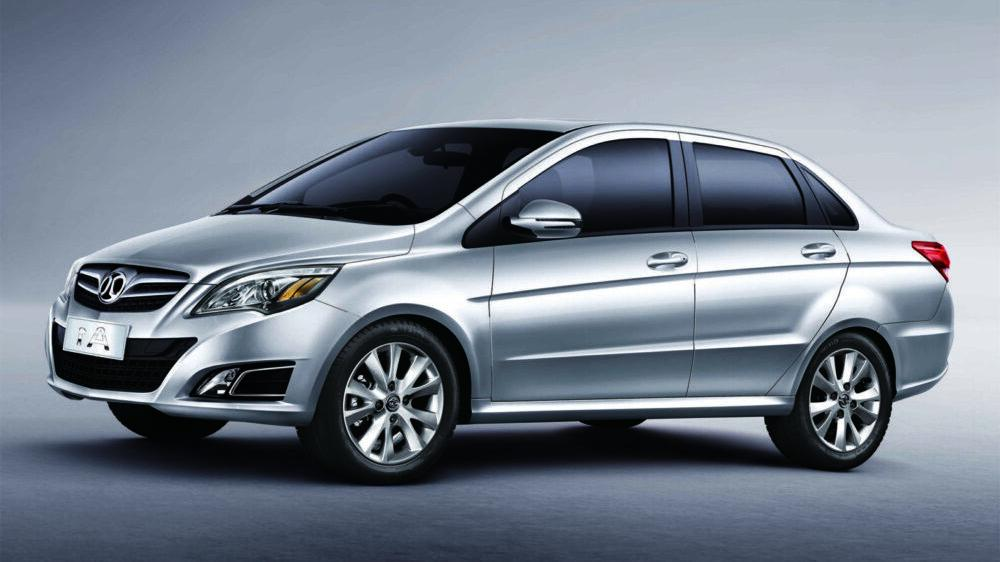Sedan: (37, 97, 973, 493)
